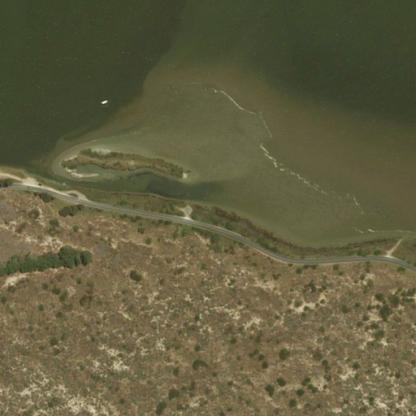ship: (95, 95, 111, 107)
